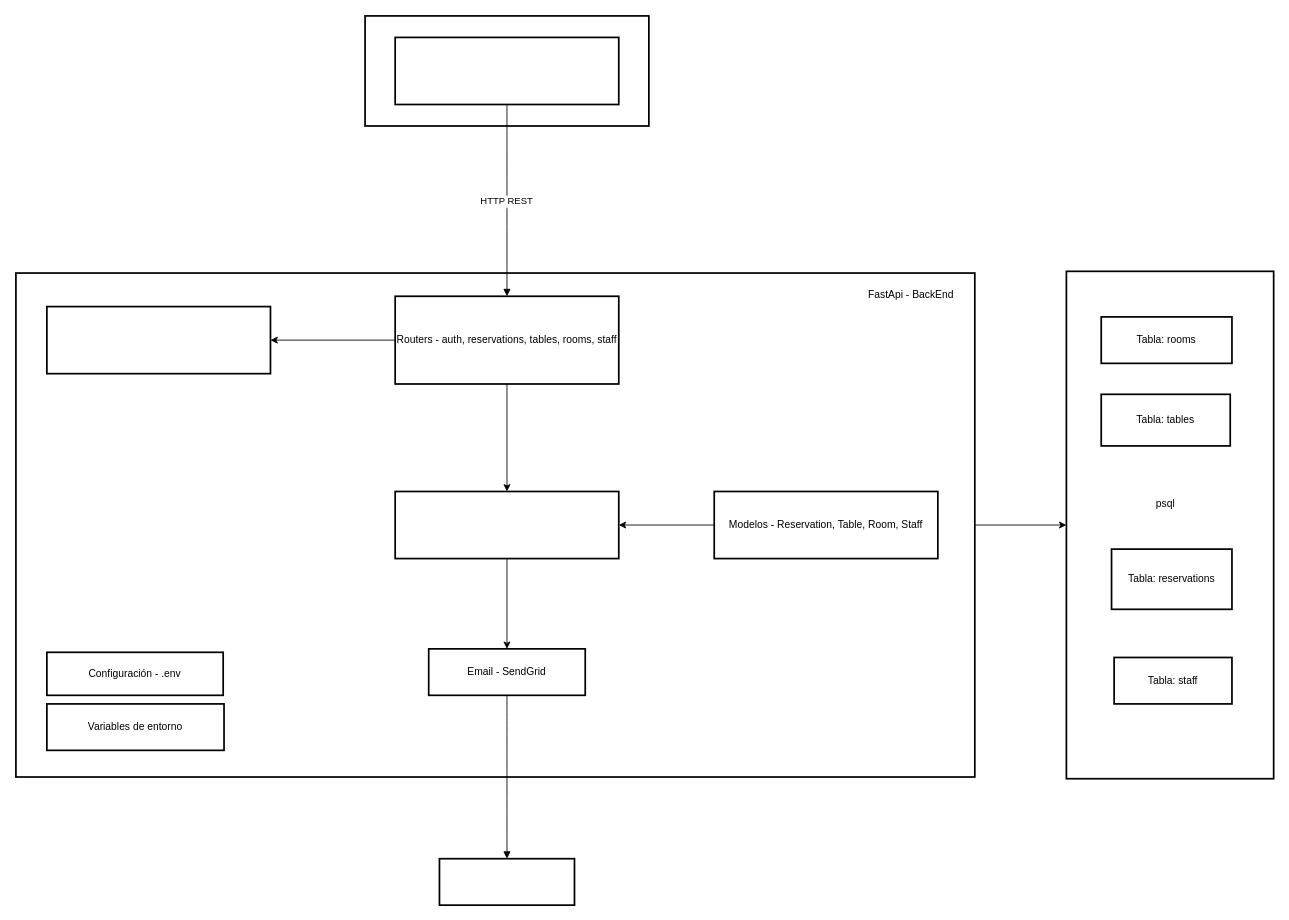
This 1289x920 diagram has some shape labels left out. Here are the shapes that lost their labels. From the top down, the box of each, then its label:
(394, 36, 619, 105): Cliente Web - React Vite SPA
(46, 305, 271, 374): Dependencias - JWT y roles
(394, 490, 619, 559): Servicios - reservation, table, room, staff
(438, 857, 575, 906): SendGrid API
